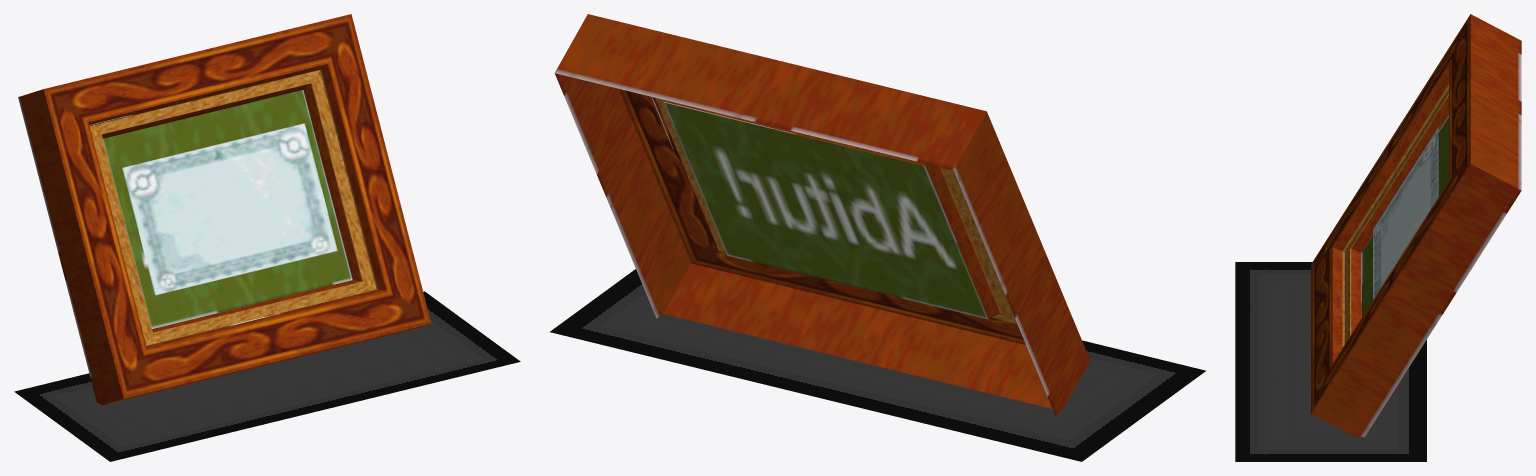
The model's file is Central, Coastal, and Mountain Certificate.obj.
The picture shows the model from 3 angles, left to right: view 1: azimuth 30°, elevation 25°; view 2: azimuth 150°, elevation 25°; view 3: azimuth 270°, elevation 25°; orthographic projection. The views are drawn at different scales.
Visible parts, largest first — view 1: Central,_Coastal,_and_Mountain_Certificate; view 2: Central,_Coastal,_and_Mountain_Certificate; view 3: Central,_Coastal,_and_Mountain_Certificate.
Part boxes in pixels (left/top/right/bottom): Central,_Coastal,_and_Mountain_Certificate: left=14, top=14, right=520, bottom=461; Central,_Coastal,_and_Mountain_Certificate: left=550, top=14, right=1205, bottom=461; Central,_Coastal,_and_Mountain_Certificate: left=1235, top=14, right=1521, bottom=461.
Size of the model in its own units: 0.6255 by 0.4044 by 0.3789.
2 materials, 2 textured.
